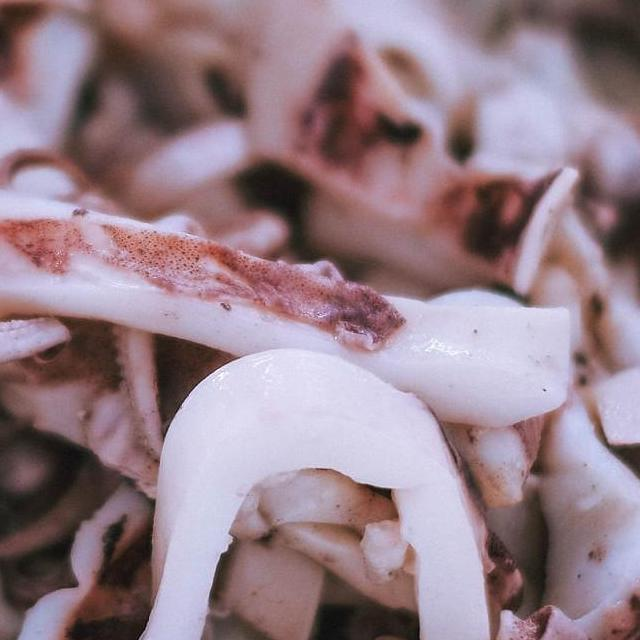muc: (0, 134, 578, 439), (100, 336, 508, 640), (470, 379, 640, 640)
